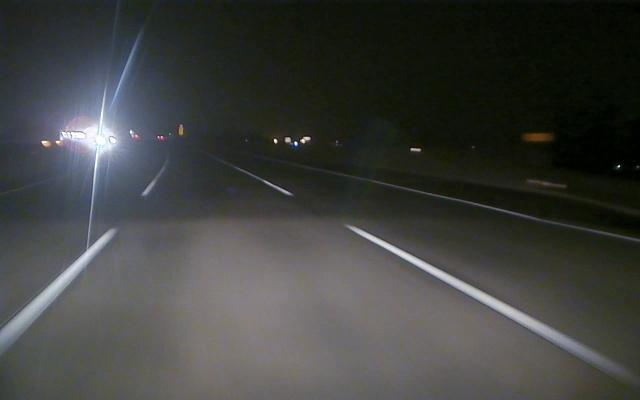lane: (332, 217, 636, 383), (3, 181, 155, 353), (362, 178, 639, 244)
